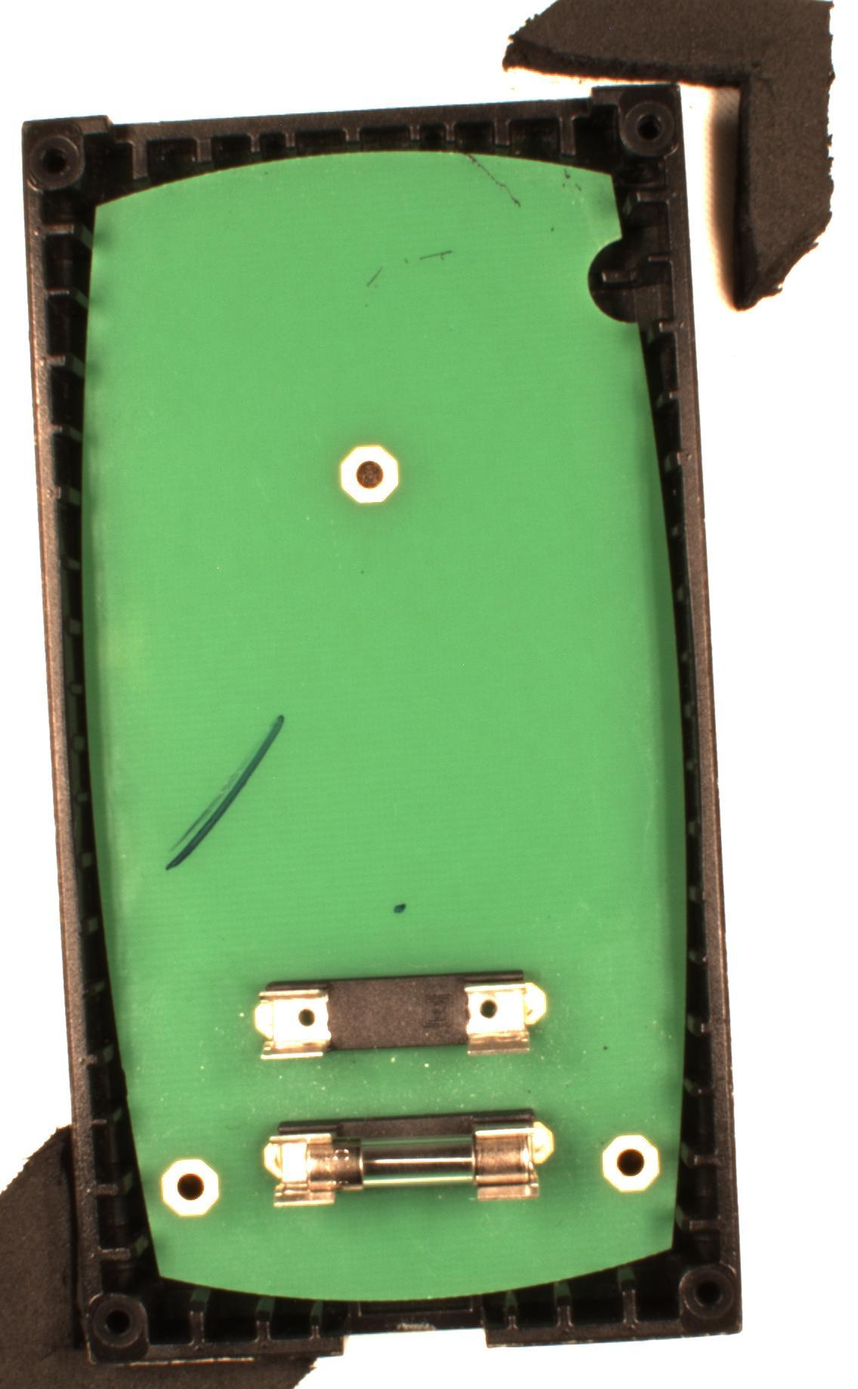Linijsko Ostecene: (164, 714, 286, 872)
Nepostojanje osiguraca: (253, 968, 548, 1063)
Tockasto Ostecenje: (392, 902, 409, 915)
